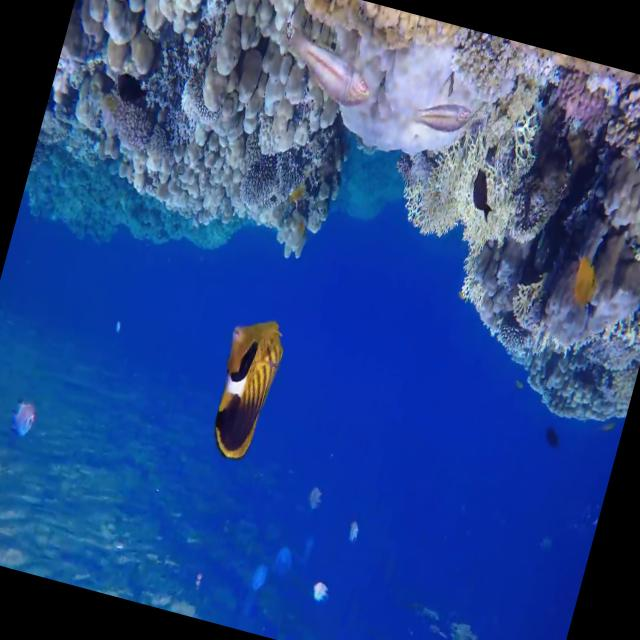fish: (199, 314, 293, 464)
